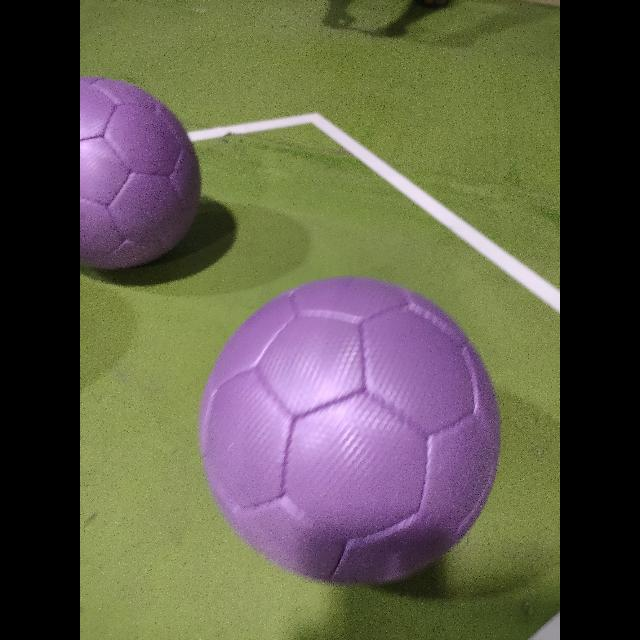P: (202, 278, 500, 584), (80, 78, 200, 268)
